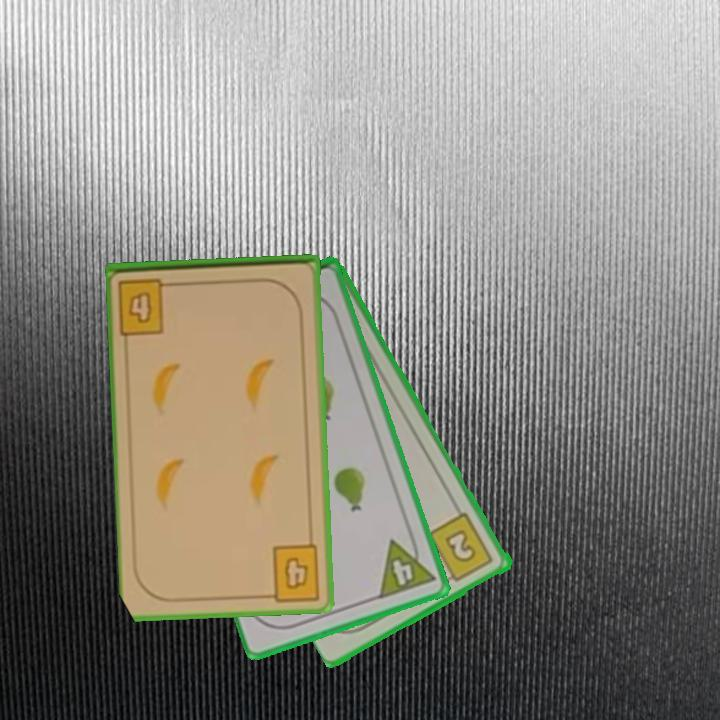2b: (425, 509, 497, 586)
4b: (115, 274, 180, 337), (261, 540, 323, 602)
4p: (375, 529, 438, 602)
